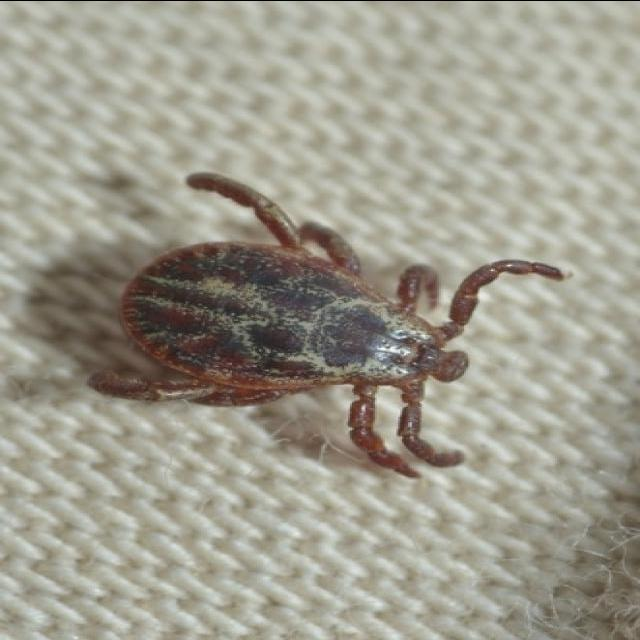Dermacentor Reticulatus-M: (87, 170, 567, 471)
